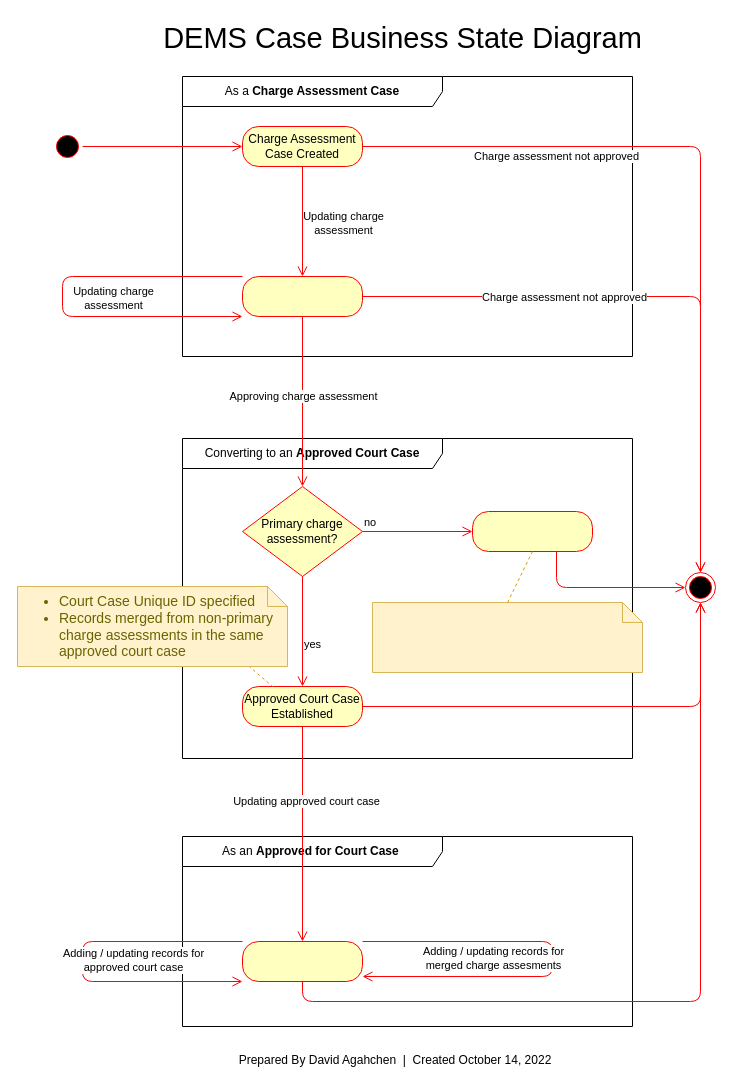
Image size: 733x1092. Some labels were removed from this diagram. The shapes that lost their labels are listed below. From the top down, each one's centre as x and y in pixels, then its label:
(302,296): Charge Assessment Case Updated
(532,531): Charge Assessment Merged (inactive)
(507,637): Primary Approved Court Case specified DEMS Case Status set to "Inactive"
(302,961): Approved Court Case Updated
